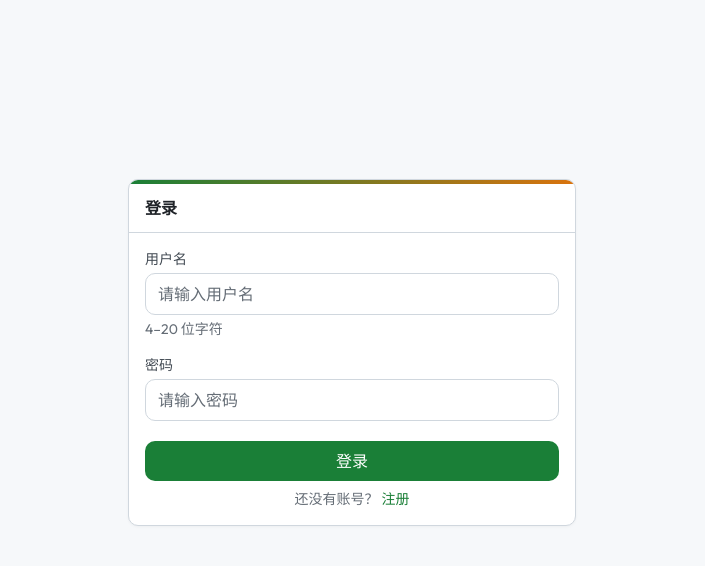
Test: Transfer Flow › should_display_transfer_form_when_authenticated
Type "e2euser" into the field labelled "用户名".
click(352, 294); type("e2euser")  # box [145,273,559,315]
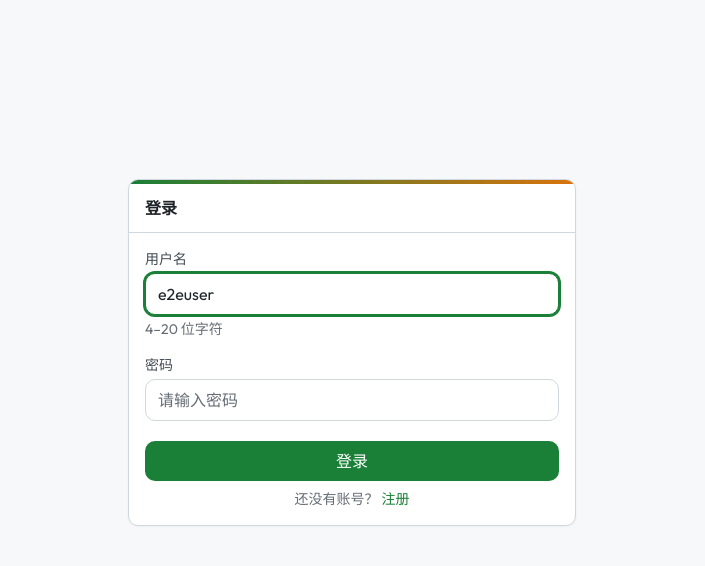
Type "password1" into the password field labelled "密码".
click(352, 400); type("password1")  # box [145,379,559,421]
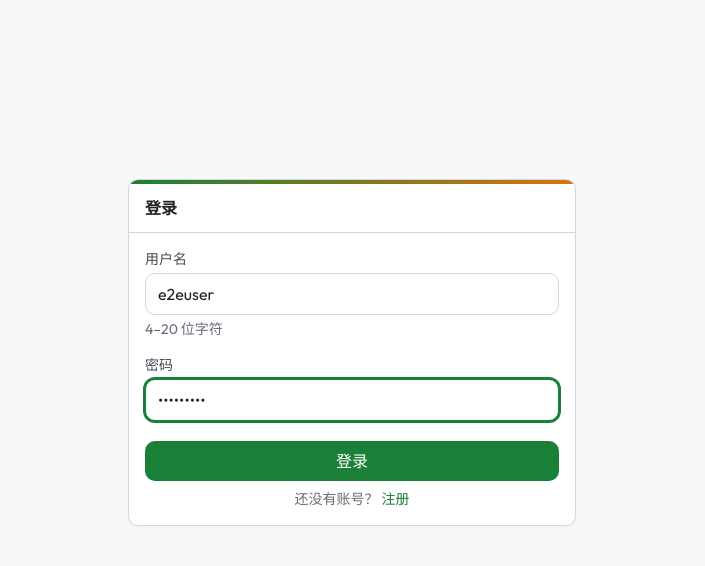
Click the submit button.
click(352, 461)  # box [145,441,559,481]
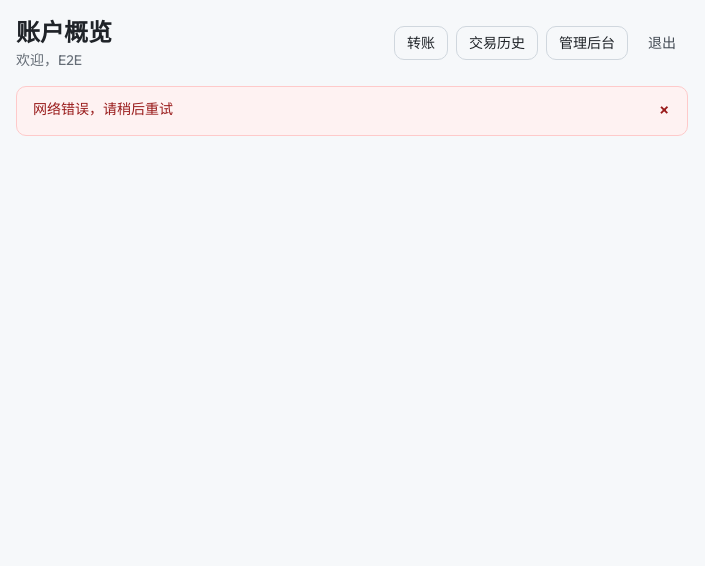
Open "/transfer"
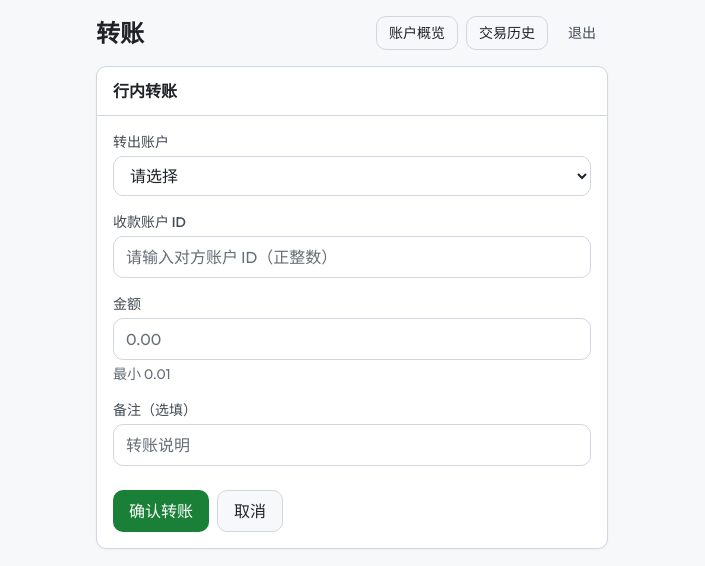
Now the form is shown, box [113,132,591,532]
Now the dropdown with id "fromAccountId" is shown, box [113,156,591,196]
Now the field with id "toAccountId" is shown, box [113,236,591,278]
